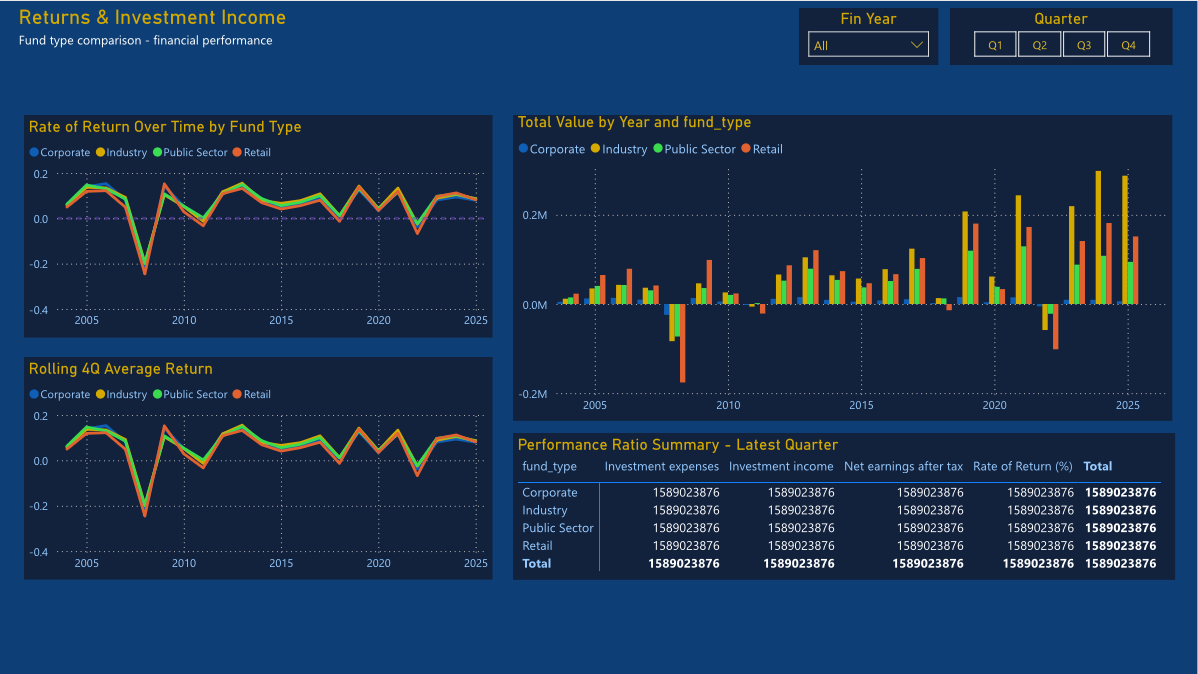

Layout of this report page (visuals, bound fields, positions):
{"tool":"powerbi","page":{"name":"Returns","canvas":[1280,720],"ordinal":2},"visuals":[{"type":"lineChart","title":"Rate of Return Over Time by Fund Type","fields":{"Category":["master_all.date.Variation.Date Hierarchy.Year","master_all.date.Variation.Date Hierarchy.Quarter","master_all.date.Variation.Date Hierarchy.Month","master_all.date.Variation.Date Hierarchy.Day"],"Y":["master_all.Total Value"],"Series":["master_all.fund_type"]},"box":[25.6,122.2,501.1,237.8],"z":0},{"type":"textbox","title":"Returns & Investment Income","box":[14.4,7.8,300,72.2],"z":1},{"type":"slicer","title":"Fin Year","fields":{"Values":["master_all.fin_year"]},"box":[854.4,7.8,148.9,61.1],"z":2},{"type":"slicer","title":"Quarter","fields":{"Values":["master_all.quarter_label"]},"box":[1015.6,7.8,237.8,61.1],"z":3},{"type":"clusteredColumnChart","fields":{"Category":["master_all.date.Variation.Date Hierarchy.Year"],"Y":["master_all.Total Value"],"Series":["master_all.fund_type"]},"box":[572.2,122.2,585.6,237.8],"z":4},{"type":"lineChart","title":"Rolling 4Q Average Return","fields":{"Category":["master_all.date.Variation.Date Hierarchy.Year","master_all.date.Variation.Date Hierarchy.Quarter","master_all.date.Variation.Date Hierarchy.Month","master_all.date.Variation.Date Hierarchy.Day"],"Y":["master_all.Rolling 4Q Avg"],"Series":["master_all.fund_type"]},"box":[26,381,501,238],"z":5},{"type":"pivotTable","title":"Performance Ratio Summary - Latest Quarter","fields":{"Rows":["master_all.fund_type"],"Columns":["master_all.metric"],"Values":["master_all.Latest Quarter Value"]},"box":[545.6,381.1,707.8,156.7],"z":6}]}

Visuals, with their boxes in screenshot pixels (x1, y1, x2, y2), scaled from the page's 1280x720 canvas onto the 1198x674 screenshot:
"Rate of Return Over Time by Fund Type" lineChart: [24, 114, 493, 337]
"Returns & Investment Income" textbox: [13, 7, 294, 75]
"Fin Year" slicer: [800, 7, 939, 64]
"Quarter" slicer: [951, 7, 1173, 64]
clusteredColumnChart - master_all.date.Variation.Date Hierarchy.Year x master_all.Total Value: [536, 114, 1084, 337]
"Rolling 4Q Average Return" lineChart: [24, 357, 493, 579]
"Performance Ratio Summary - Latest Quarter" pivotTable: [511, 357, 1173, 503]
